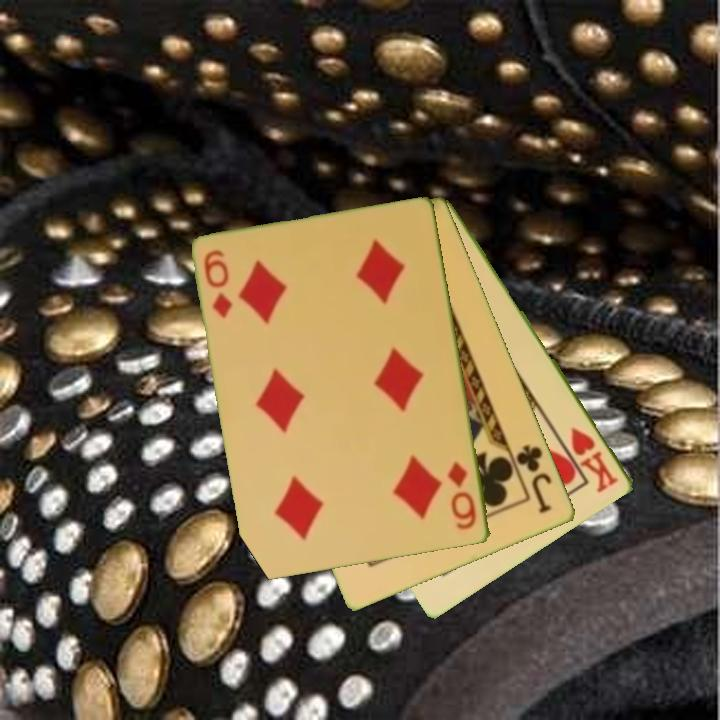6d: (200, 246, 236, 322), (445, 458, 480, 533)
Jc: (513, 441, 555, 517)
Kh: (567, 423, 623, 496)
